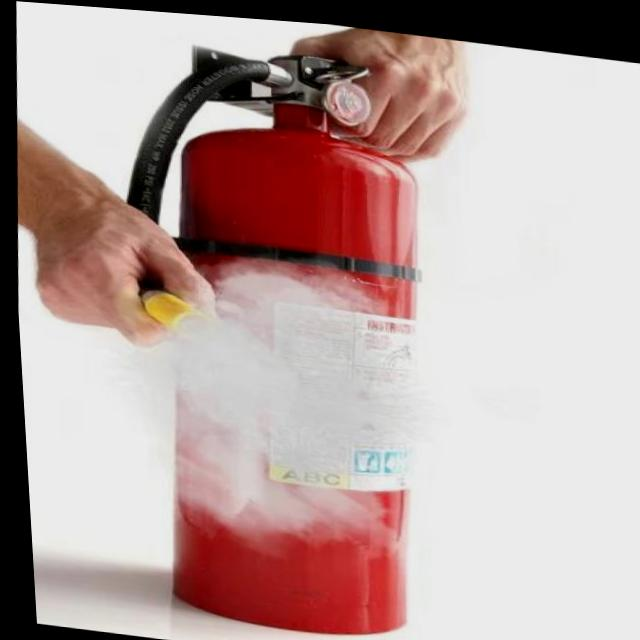FireExtinguisher: (69, 19, 464, 640)
